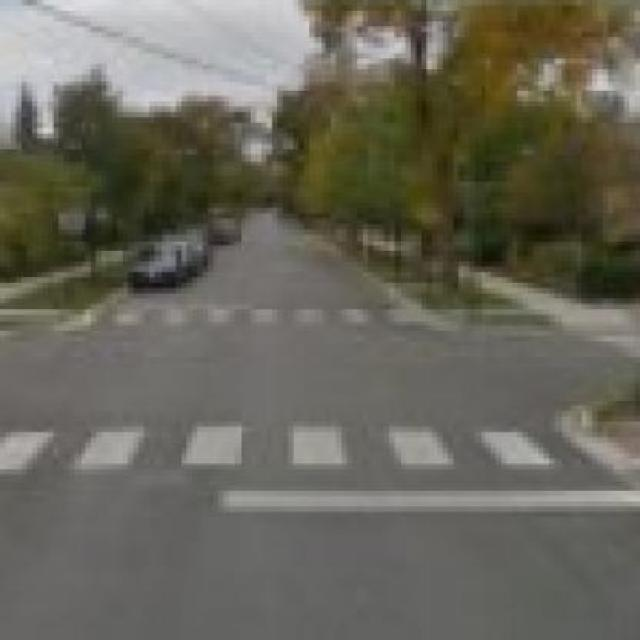crosswalk: (0, 431, 560, 469)
